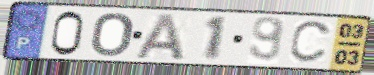0: (48, 9, 86, 57)
1: (201, 15, 229, 62)
9: (248, 15, 287, 66)
A: (132, 12, 187, 62)
C: (287, 19, 335, 65)
O: (89, 11, 136, 59)
